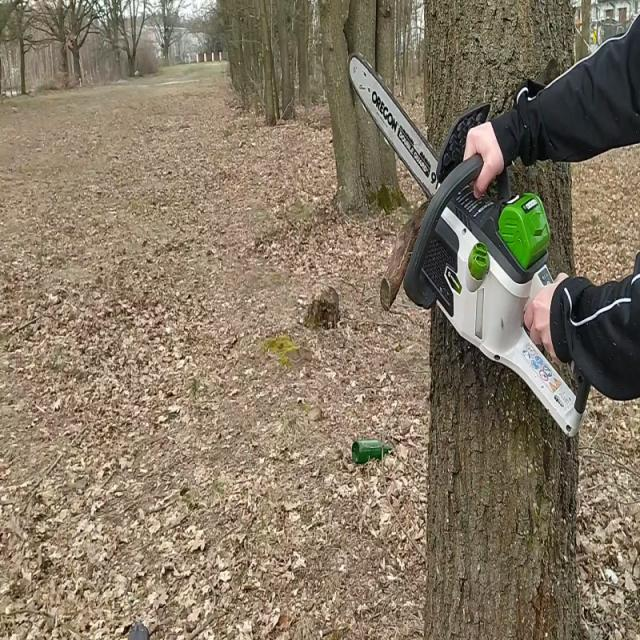Chainsaw: (340, 48, 595, 446)
